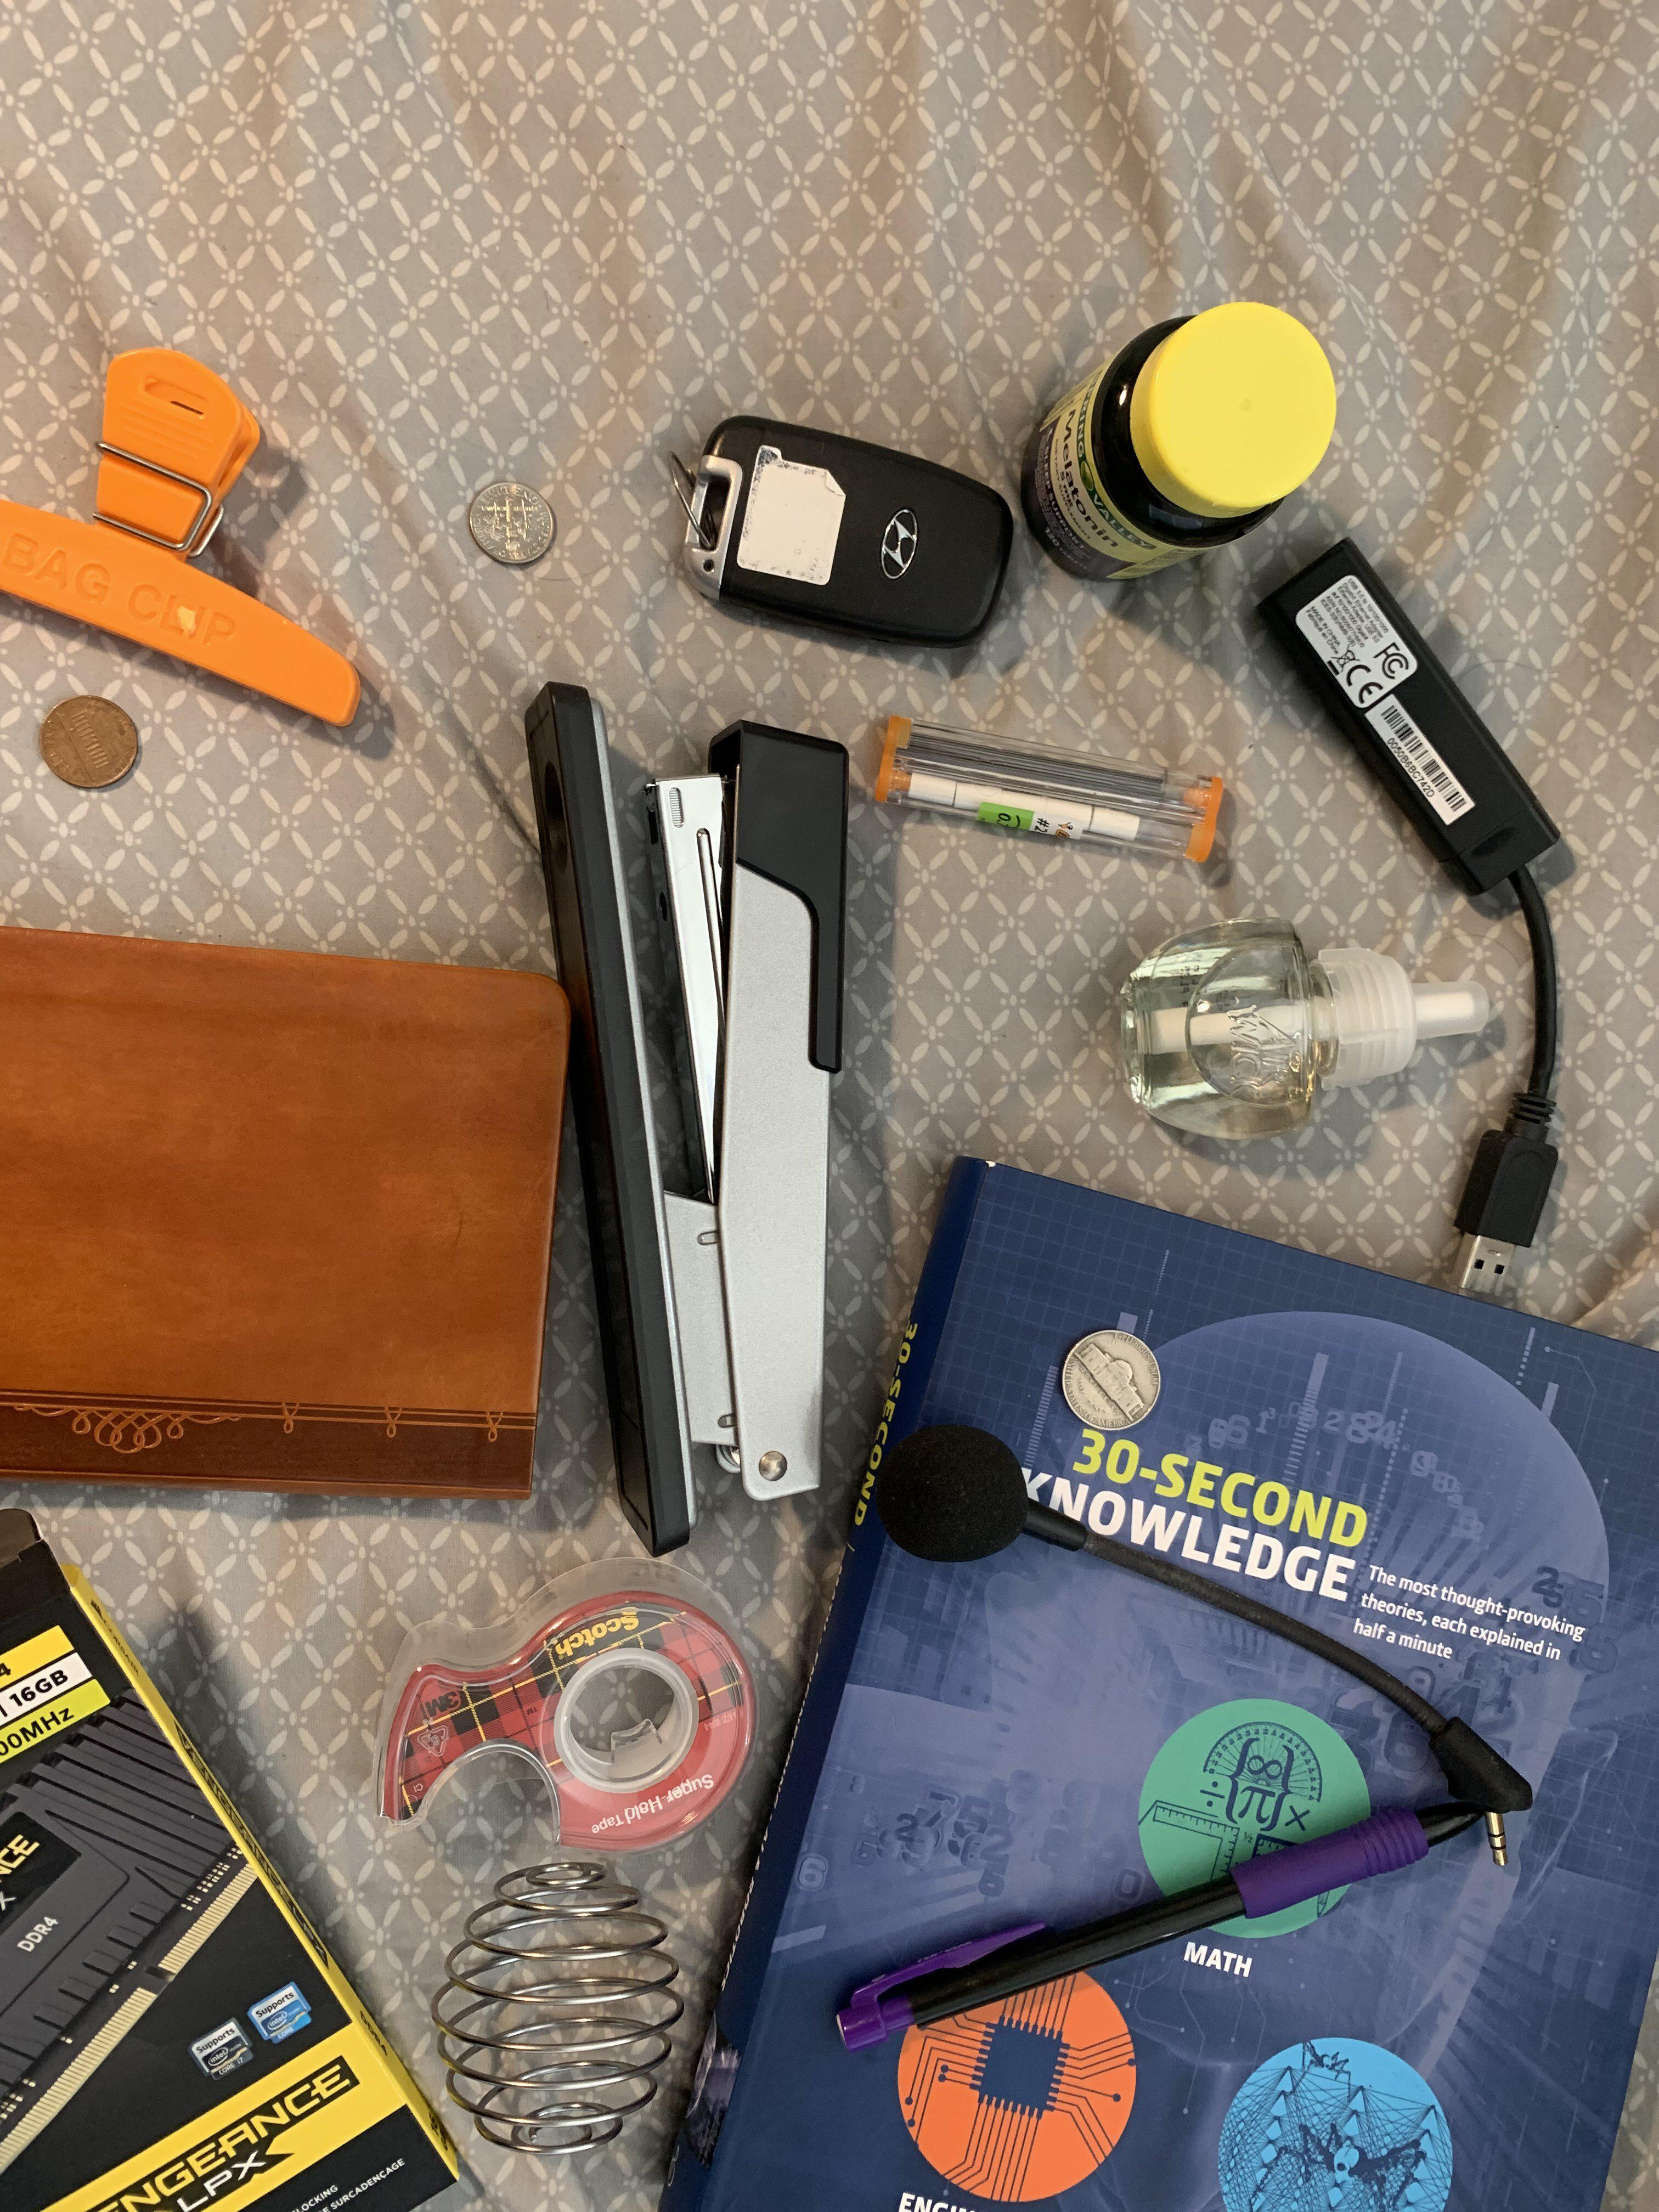Dime: (450, 470, 584, 582)
Nickel: (1037, 1318, 1194, 1446)
Penny: (30, 688, 150, 796)
